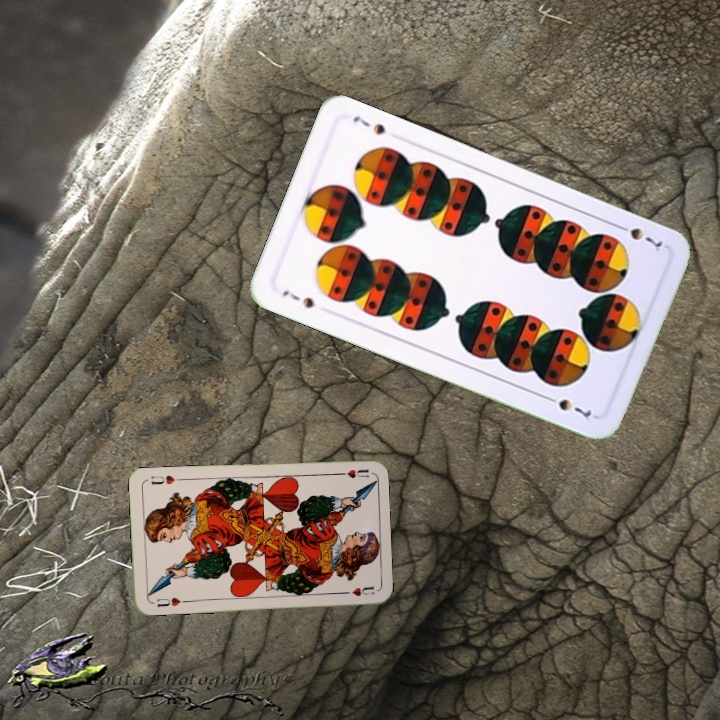HU: (331, 465, 371, 480), (153, 593, 183, 609)
S7: (611, 220, 665, 254), (278, 286, 317, 311)
